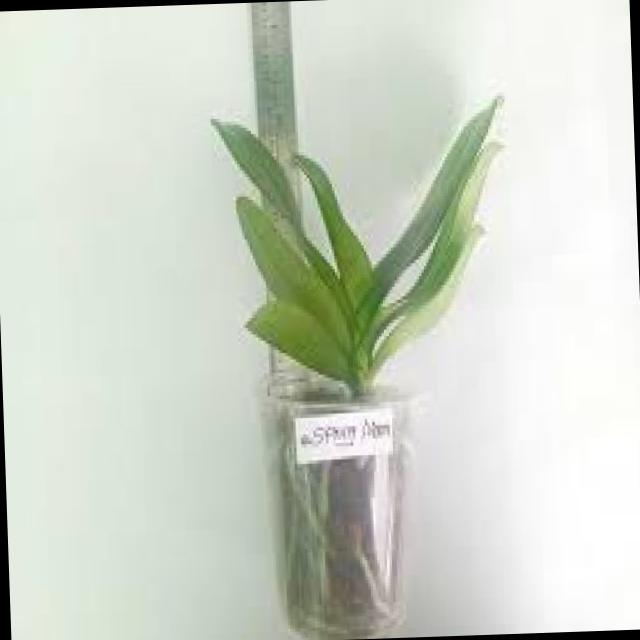leaf: (360, 95, 501, 333), (210, 118, 351, 321), (372, 141, 498, 346), (368, 221, 484, 379), (235, 196, 347, 347), (293, 155, 369, 304), (245, 297, 345, 377)
plant: (195, 80, 534, 639)
pot: (246, 358, 444, 640)
stem: (350, 343, 368, 389)
